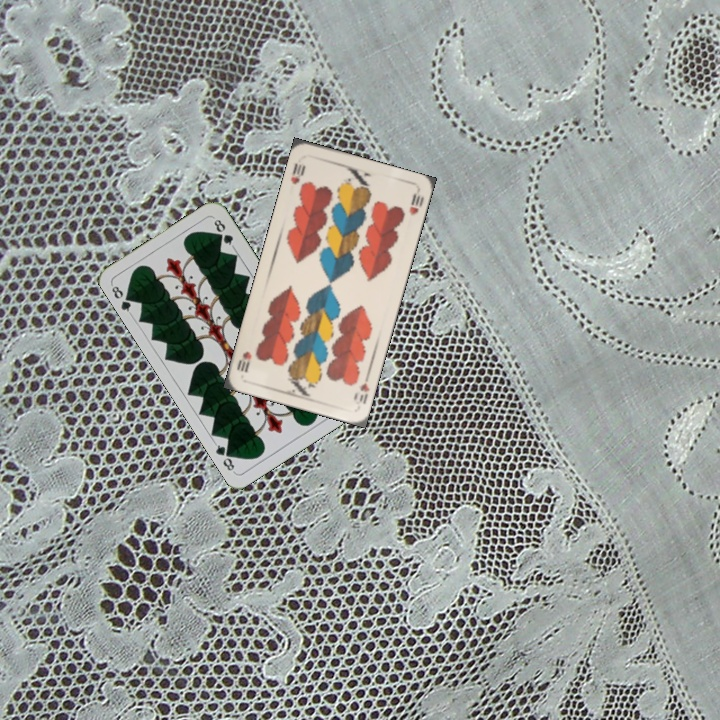G8: (107, 281, 137, 317)
H10: (349, 370, 372, 407), (286, 159, 308, 187)
